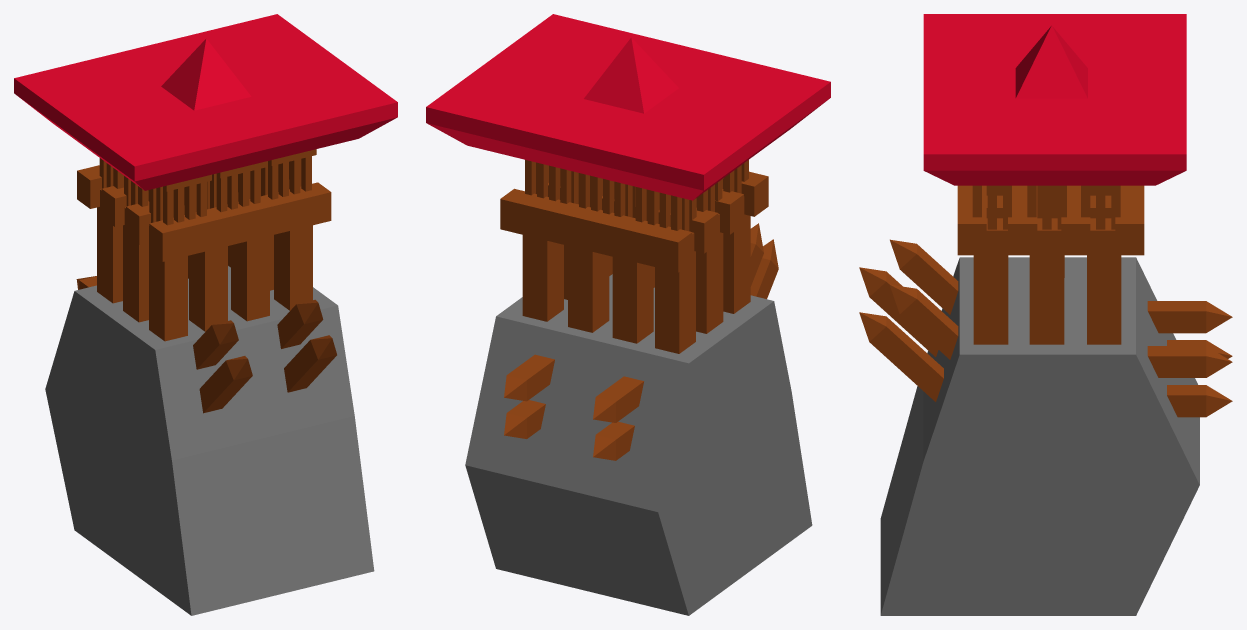
Rendered from Fortress.fbx.
3 views of the same model, side by side, from view 1: azimuth 30°, elevation 25°; view 2: azimuth 150°, elevation 25°; view 3: azimuth 270°, elevation 25° (orthographic). The views are drawn at different scales.
Visible parts, largest first — view 1: Lawas ug Dugo, Cube, Cube.014, Cube.023, Cone, Cube.001, Cube.003, Cube.002, Cube.004, Cube.015, Cube.008, Cube.010 (+6 smaller); view 2: Lawas ug Dugo, Cube, Cube.011, Cube.026, Cone, Cube.008, Cube.005, Cube.007, Cube.006, Cube.010, Cube.001, Cube.016 (+7 smaller); view 3: Lawas ug Dugo, Cube, Cube.023, Cube.026, Cube.009, Cube.005, Cube.004, Cone, Cube.011, Cube.014, Cube.013, Cube.012 (+3 smaller).
Boxes of the visible parts, bbox=[...] form: Lawas ug Dugo: bbox=[45, 266, 374, 615]; Cube: bbox=[14, 14, 397, 190]; Cube.014: bbox=[149, 182, 331, 261]; Cube.023: bbox=[193, 299, 336, 413]; Cone: bbox=[161, 38, 251, 110]; Cube.001: bbox=[149, 225, 187, 341]; Cube.003: bbox=[231, 236, 269, 321]; Cube.002: bbox=[189, 246, 227, 331]; Cube.004: bbox=[274, 225, 312, 310]; Cube.015: bbox=[149, 174, 211, 225]; Cube.008: bbox=[97, 189, 122, 303]; Cube.010: bbox=[123, 207, 148, 322]; Lawas ug Dugo: bbox=[465, 274, 812, 615]; Cube: bbox=[426, 14, 830, 200]; Cube.011: bbox=[500, 188, 692, 272]; Cube.026: bbox=[504, 354, 643, 460]; Cone: bbox=[584, 37, 678, 113]; Cube.008: bbox=[655, 232, 695, 353]; Cube.005: bbox=[522, 235, 563, 321]; Cube.007: bbox=[612, 257, 653, 343]; Cube.006: bbox=[568, 246, 609, 332]; Cube.010: bbox=[696, 213, 723, 333]; Cube.001: bbox=[723, 196, 750, 313]; Cube.016: bbox=[635, 187, 696, 231]; Lawas ug Dugo: bbox=[880, 257, 1199, 615]; Cube: bbox=[923, 14, 1186, 185]; Cube.023: bbox=[859, 239, 958, 401]; Cube.026: bbox=[1147, 301, 1232, 417]; Cube.009: bbox=[1029, 218, 1064, 344]; Cube.005: bbox=[1087, 218, 1121, 344]; Cube.004: bbox=[973, 218, 1008, 344]; Cone: bbox=[1015, 25, 1087, 98]; Cube.011: bbox=[1115, 185, 1144, 255]; Cube.014: bbox=[957, 185, 986, 255]; Cube.013: bbox=[1008, 185, 1037, 255]; Cube.012: bbox=[1061, 185, 1090, 255].
Size of the model in its own units: 75.06 by 135 by 84.54.
